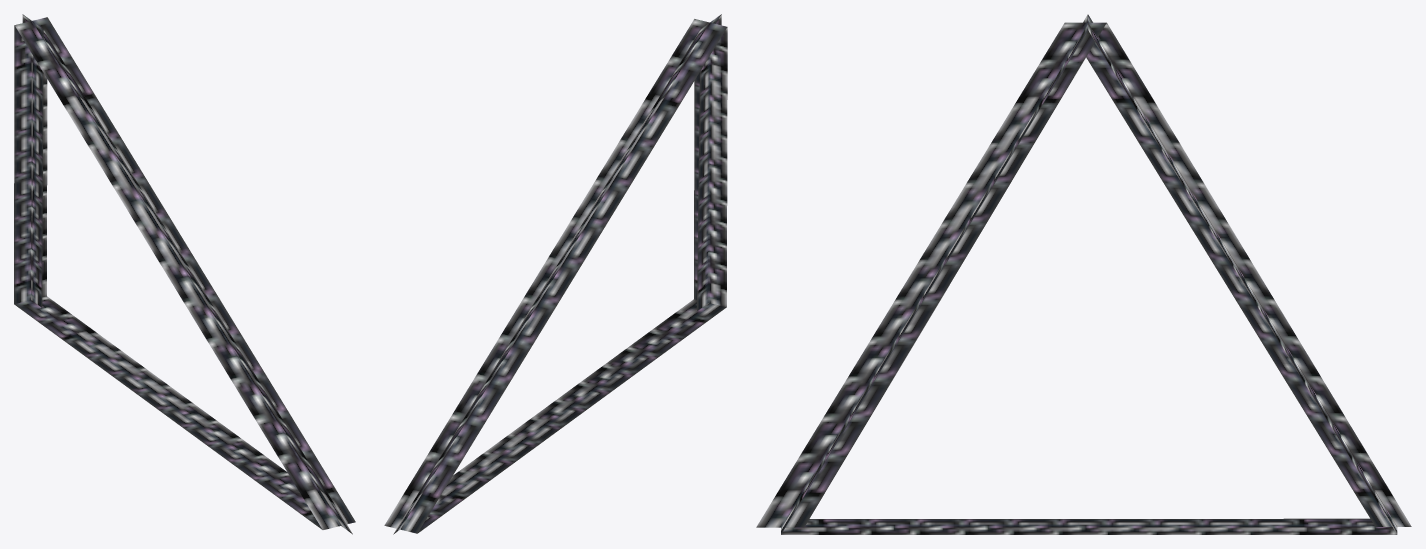
3 renders of one model, left to right at view 1: azimuth 30°, elevation 25°; view 2: azimuth 150°, elevation 25°; view 3: azimuth 270°, elevation 25°, orthographic.
Visible parts, largest first — view 1: Object06; view 2: Object06; view 3: Object06.
Part boxes in pixels (x1,y1,x2,y2): Object06: (14,14,355,534); Object06: (384,14,727,534); Object06: (756,14,1411,534).
Size of the model in its own units: 60.55 by 133 by 183.
Materials: 1 (1 with a texture image).
